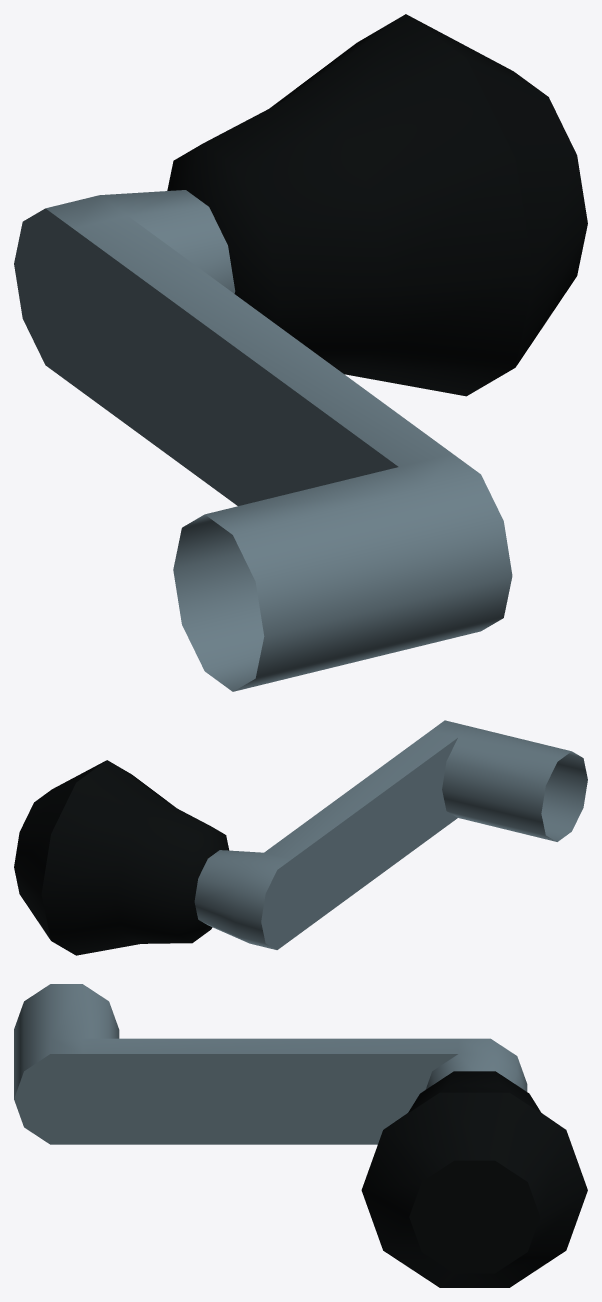
The model's file is fishingpole_handle.obj.
The picture shows the model from 3 angles, top to bottom: view 1: azimuth 30°, elevation 25°; view 2: azimuth 150°, elevation 25°; view 3: azimuth 270°, elevation 25°; orthographic projection. The views are drawn at different scales.
Visible parts, largest first — view 1: fishingpole_handle_Cylinder.033; view 2: fishingpole_handle_Cylinder.033; view 3: fishingpole_handle_Cylinder.033.
Boxes of the visible parts, <box> form: fishingpole_handle_Cylinder.033: <box>14,14,587,691</box>; fishingpole_handle_Cylinder.033: <box>14,720,587,955</box>; fishingpole_handle_Cylinder.033: <box>14,984,587,1287</box>.
Size of the model in its own units: 0.1838 by 0.0892 by 0.2377.
